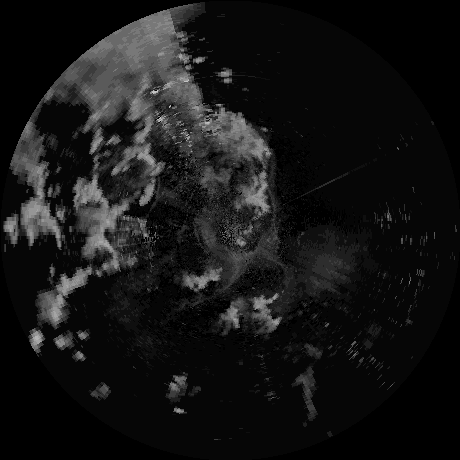frontgust: (183, 283, 226, 306), (265, 186, 277, 223), (150, 176, 160, 209)
